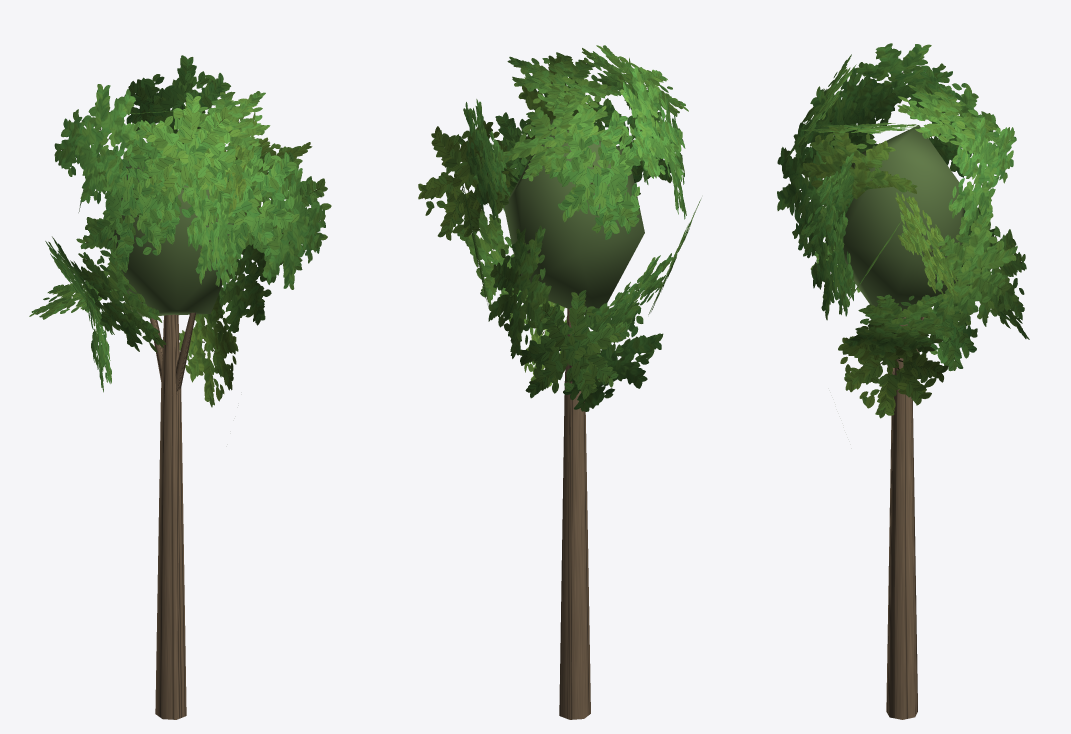
3 renders of one model, left to right at view 1: azimuth 30°, elevation 25°; view 2: azimuth 150°, elevation 25°; view 3: azimuth 270°, elevation 25°, orthographic. The views are drawn at different scales.
Parts seen in each view (by area): view 1: tree_3701; view 2: tree_3701; view 3: tree_3701.
Part boxes in pixels (left/top/right/bottom): tree_3701: left=29, top=55, right=331, bottom=719; tree_3701: left=418, top=45, right=701, bottom=719; tree_3701: left=777, top=43, right=1029, bottom=719.
Bounding box in the file's own units: 3.37 × 7.36 × 2.95.
Materials: 1 (1 with a texture image).
